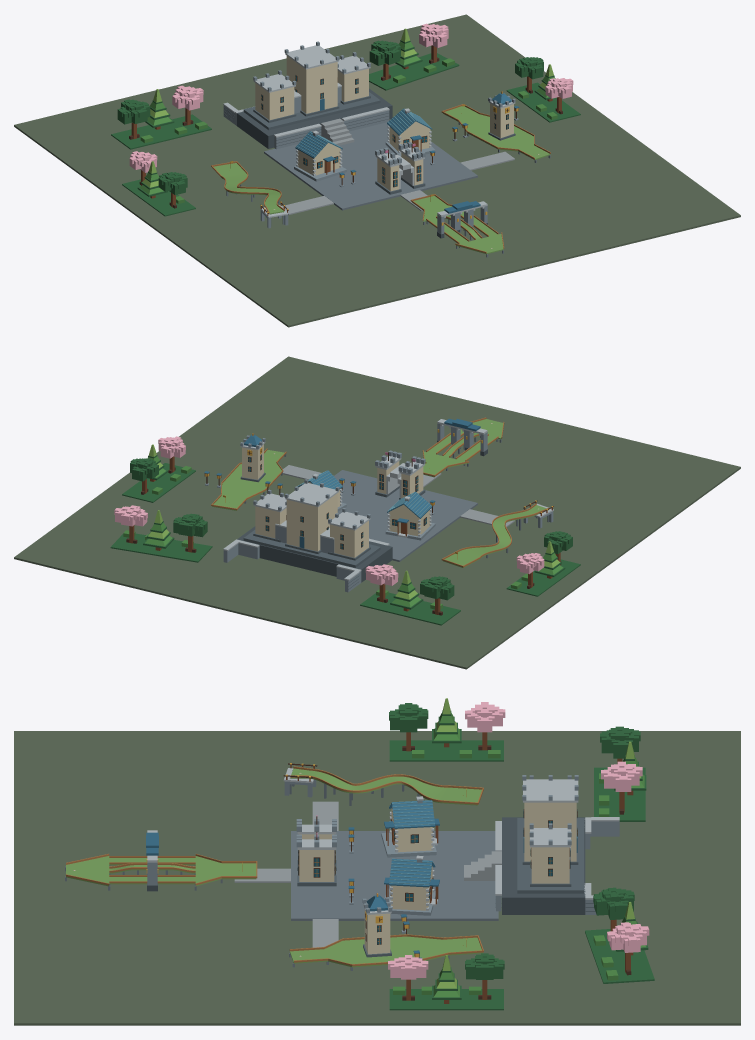
File: district.glb
3 views of the same model, one above another, from view 1: azimuth 30°, elevation 25°; view 2: azimuth 150°, elevation 25°; view 3: azimuth 270°, elevation 25° (orthographic). The views are drawn at different scales.
Parts seen in each view (by area): view 1: Blockland_District_Dressing, DistrictScenery_3__Blockland_TownBackdrop_Standard, DistrictScenery_4__Blockland_BlockGrove_Standard, DistrictScenery_5__Blockland_BlockGrove_Standard, DistrictScenery_7__Blockland_BlockGrove_Standard, DistrictScenery_6__Blockland_BlockGrove_Standard, DistrictScenery_2__Blockland_CastleGatehouse_Standard, DistrictScenery_0__Blockland_VillageHouse_Standard, TowerCourtyard__Blockland_TowerCourtyard_Surface, ArchwayChoice__Blockland_ArchwayChoice_Surface, DistrictScenery_1__Blockland_VillageHouse_Standard, TowerCourtyard_0__Blockland_CourtyardTower_Standard (+3 smaller); view 2: Blockland_District_Dressing, DistrictScenery_3__Blockland_TownBackdrop_Standard, DistrictScenery_5__Blockland_BlockGrove_Standard, DistrictScenery_4__Blockland_BlockGrove_Standard, DistrictScenery_7__Blockland_BlockGrove_Standard, DistrictScenery_6__Blockland_BlockGrove_Standard, DistrictScenery_2__Blockland_CastleGatehouse_Standard, DistrictScenery_0__Blockland_VillageHouse_Standard, TowerCourtyard__Blockland_TowerCourtyard_Surface, ArchwayChoice__Blockland_ArchwayChoice_Surface, BlockSwitchback__Blockland_BlockSwitchback_Surface, TowerCourtyard_0__Blockland_CourtyardTower_Standard (+5 smaller); view 3: Blockland_District_Dressing, DistrictScenery_3__Blockland_TownBackdrop_Standard, DistrictScenery_6__Blockland_BlockGrove_Standard, DistrictScenery_7__Blockland_BlockGrove_Standard, DistrictScenery_5__Blockland_BlockGrove_Standard, DistrictScenery_4__Blockland_BlockGrove_Standard, ArchwayChoice__Blockland_ArchwayChoice_Surface, TowerCourtyard__Blockland_TowerCourtyard_Surface, DistrictScenery_0__Blockland_VillageHouse_Standard, DistrictScenery_1__Blockland_VillageHouse_Standard, DistrictScenery_2__Blockland_CastleGatehouse_Standard, BlockSwitchback__Blockland_BlockSwitchback_Surface (+7 smaller).
Boxes of the visible parts, left/top/right/bottom form: Blockland_District_Dressing: left=14, top=14, right=740, bottom=327; DistrictScenery_3__Blockland_TownBackdrop_Standard: left=243, top=41, right=380, bottom=130; DistrictScenery_4__Blockland_BlockGrove_Standard: left=111, top=85, right=211, bottom=149; DistrictScenery_5__Blockland_BlockGrove_Standard: left=369, top=23, right=459, bottom=90; DistrictScenery_7__Blockland_BlockGrove_Standard: left=506, top=57, right=580, bottom=122; DistrictScenery_6__Blockland_BlockGrove_Standard: left=122, top=151, right=195, bottom=216; DistrictScenery_2__Blockland_CastleGatehouse_Standard: left=375, top=142, right=425, bottom=194; DistrictScenery_0__Blockland_VillageHouse_Standard: left=294, top=130, right=346, bottom=181; TowerCourtyard__Blockland_TowerCourtyard_Surface: left=443, top=106, right=550, bottom=159; ArchwayChoice__Blockland_ArchwayChoice_Surface: left=412, top=196, right=503, bottom=254; DistrictScenery_1__Blockland_VillageHouse_Standard: left=385, top=108, right=435, bottom=156; TowerCourtyard_0__Blockland_CourtyardTower_Standard: left=488, top=91, right=515, bottom=140; Blockland_District_Dressing: left=14, top=356, right=740, bottom=669; DistrictScenery_3__Blockland_TownBackdrop_Standard: left=243, top=479, right=380, bottom=567; DistrictScenery_5__Blockland_BlockGrove_Standard: left=110, top=505, right=212, bottom=562; DistrictScenery_4__Blockland_BlockGrove_Standard: left=360, top=564, right=460, bottom=625; DistrictScenery_7__Blockland_BlockGrove_Standard: left=122, top=436, right=195, bottom=502; DistrictScenery_6__Blockland_BlockGrove_Standard: left=506, top=531, right=580, bottom=596; DistrictScenery_2__Blockland_CastleGatehouse_Standard: left=375, top=450, right=425, bottom=499; DistrictScenery_0__Blockland_VillageHouse_Standard: left=385, top=491, right=435, bottom=540; TowerCourtyard__Blockland_TowerCourtyard_Surface: left=212, top=450, right=284, bottom=510; ArchwayChoice__Blockland_ArchwayChoice_Surface: left=423, top=419, right=503, bottom=477; BlockSwitchback__Blockland_BlockSwitchback_Surface: left=443, top=505, right=548, bottom=567; TowerCourtyard_0__Blockland_CourtyardTower_Standard: left=240, top=433, right=265, bottom=482; Blockland_District_Dressing: left=14, top=731, right=740, bottom=1025; DistrictScenery_3__Blockland_TownBackdrop_Standard: left=517, top=775, right=583, bottom=893; DistrictScenery_6__Blockland_BlockGrove_Standard: left=389, top=698, right=505, bottom=761; DistrictScenery_7__Blockland_BlockGrove_Standard: left=388, top=953, right=504, bottom=1010; DistrictScenery_5__Blockland_BlockGrove_Standard: left=585, top=887, right=654, bottom=983; DistrictScenery_4__Blockland_BlockGrove_Standard: left=594, top=726, right=646, bottom=821; ArchwayChoice__Blockland_ArchwayChoice_Surface: left=66, top=856, right=256, bottom=886; TowerCourtyard__Blockland_TowerCourtyard_Surface: left=290, top=936, right=482, bottom=967; DistrictScenery_0__Blockland_VillageHouse_Standard: left=381, top=796, right=439, bottom=857; DistrictScenery_1__Blockland_VillageHouse_Standard: left=384, top=855, right=439, bottom=915; DistrictScenery_2__Blockland_CastleGatehouse_Standard: left=296, top=815, right=336, bottom=886; BlockSwitchback__Blockland_BlockSwitchback_Surface: left=290, top=768, right=481, bottom=805.
Size of what is drawn, in the model's own units: 80 by 11.95 by 84.
